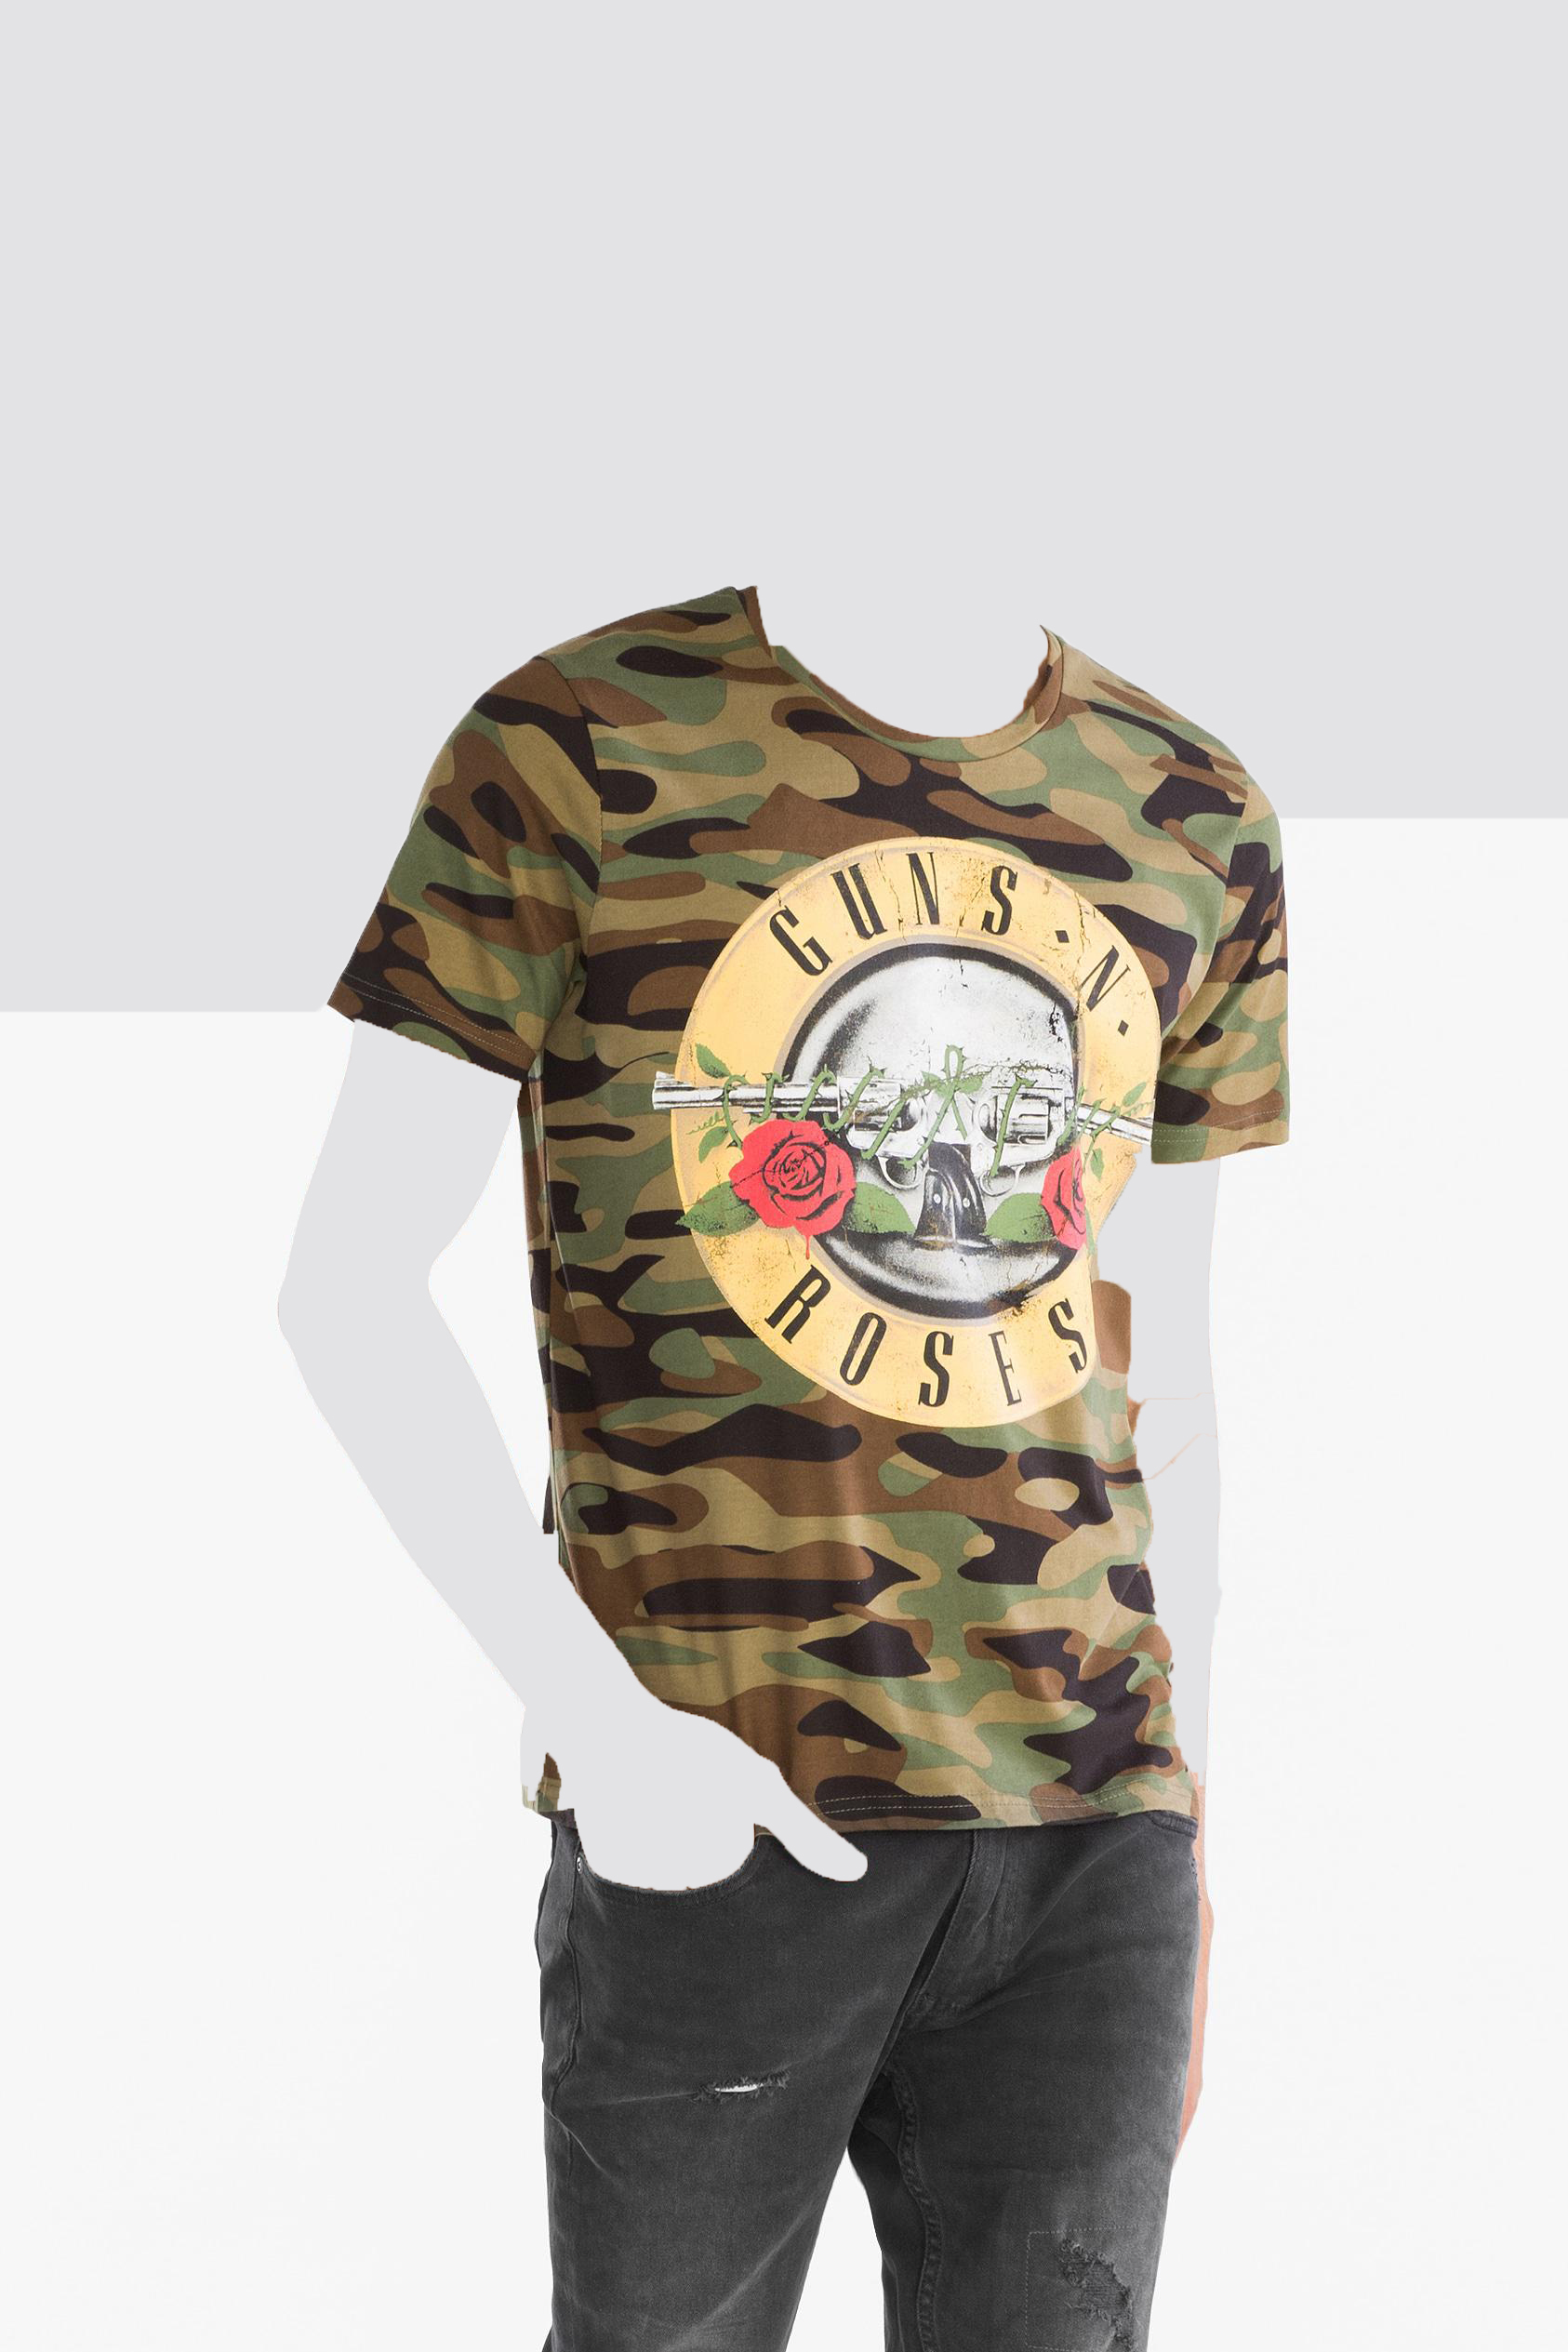teeshirt: (317, 574, 1358, 1837)
